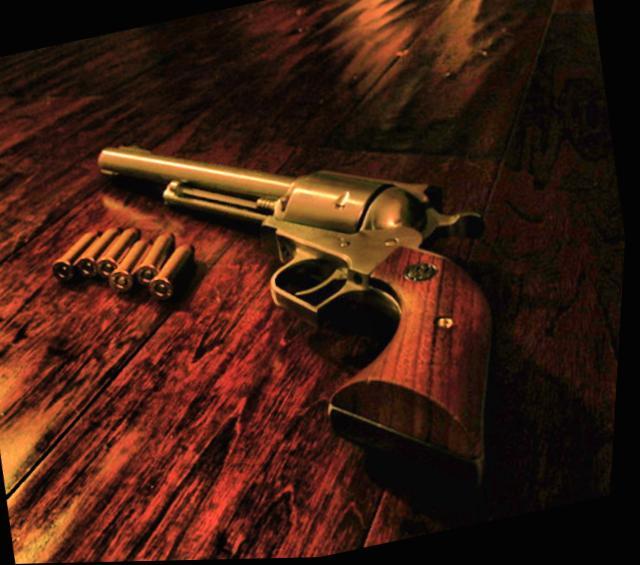pistol: (74, 68, 532, 555)
